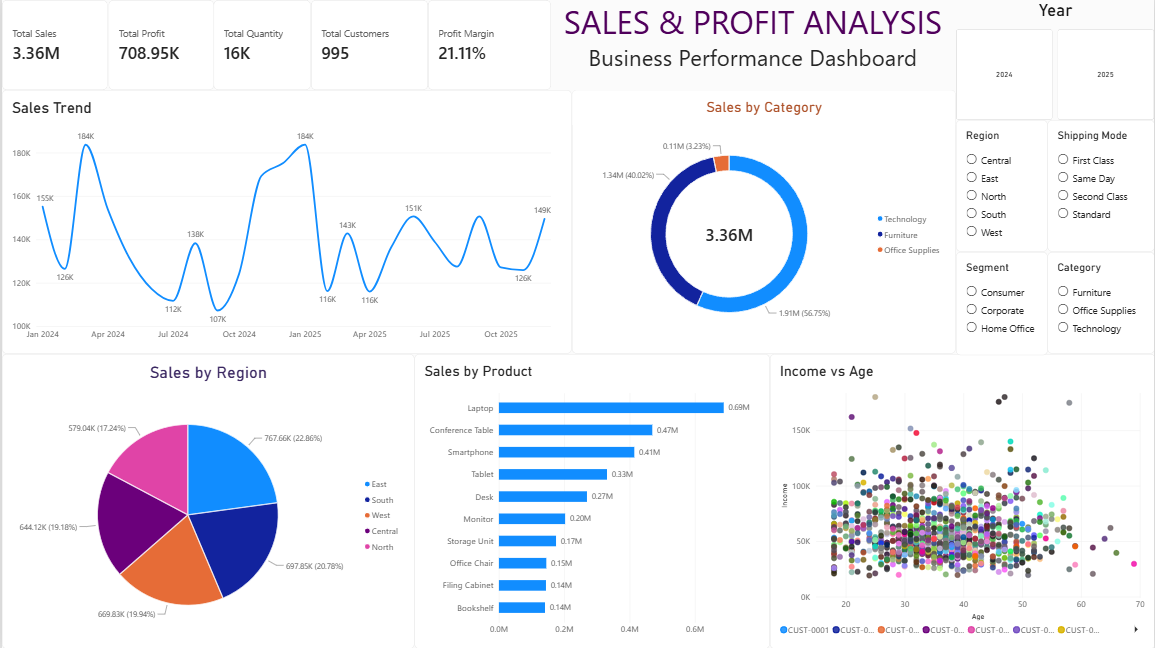

This screenshot's page, from the dashboard's own definition file:
{"tool":"powerbi","page":{"name":"Page 1","canvas":[1920,1080],"ordinal":0},"visuals":[{"type":"cardVisual","fields":{"Data":["Sales.Total Sales"]},"box":[0,0,176.6,150.3],"z":0},{"type":"cardVisual","fields":{"Data":["Sales.Total Profit"]},"box":[176.6,0,176.6,150.3],"z":1},{"type":"cardVisual","fields":{"Data":["Sales.Total Quantity"]},"box":[353.1,0,162.2,150.3],"z":2},{"type":"cardVisual","fields":{"Data":["Sales.Total Customers"]},"box":[515.4,0,195.6,150.3],"z":3},{"type":"cardVisual","fields":{"Data":["Sales.Profit Margin"]},"box":[711,0,205.2,150.3],"z":4},{"type":"lineChart","title":"Sales Trend","fields":{"Category":["Date.Year-Month"],"Y":["Sales.Total Sales"]},"box":[0,150.3,949.6,439],"z":5},{"type":"donutChart","title":"Sales by Category","fields":{"Category":["Sales.Category"],"Y":["Sales.Total Sales"]},"box":[949.6,150.3,639.4,439],"z":6},{"type":"pieChart","title":"Sales by Region","fields":{"Category":["Sales.Region"],"Y":["Sales.Total Sales"]},"box":[0,589.3,687.1,491.5],"z":7},{"type":"barChart","title":"Sales by Product","fields":{"Category":["Sales.Product"],"Y":["Sales.Total Sales"]},"box":[687.1,589.3,591.7,491.5],"z":8},{"type":"scatterChart","title":"Income vs Age","fields":{"Series":["Sales.Customer ID"],"X":["Customers.Age"],"Y":["Customers.Income"]},"box":[1278.9,589.3,641.8,491.5],"z":9},{"type":"advancedSlicerVisual","fields":{"Values":["Date.Year"]},"box":[1589,0,331.6,200.4],"z":10},{"type":"listSlicer","fields":{"Values":["Sales.Region"]},"box":[1589,200.4,152.7,219.5],"z":11},{"type":"listSlicer","fields":{"Values":["Sales.Category"]},"box":[1741.7,419.9,178.9,169.4],"z":12},{"type":"listSlicer","fields":{"Values":["Sales.Segment"]},"box":[1589,419.9,152.7,171.8],"z":13},{"type":"listSlicer","fields":{"Values":["Sales.Shipping Mode"]},"box":[1741.7,200.4,178.9,219.5],"z":14},{"type":"textbox","box":[100,100,300,300],"z":16},{"type":"textbox","box":[916.2,0,672.8,150.3],"z":17}]}

Visuals, with their boxes in screenshot pixels (x1, y1, x2, y2), scaled from the page's 1920x1080 canvas onto the 1155x648 screenshot:
cardVisual - Sales.Total Sales: 0 0 106 90
cardVisual - Sales.Total Profit: 106 0 212 90
cardVisual - Sales.Total Quantity: 212 0 310 90
cardVisual - Sales.Total Customers: 310 0 428 90
cardVisual - Sales.Profit Margin: 428 0 551 90
"Sales Trend" lineChart: 0 90 571 354
"Sales by Category" donutChart: 571 90 956 354
"Sales by Region" pieChart: 0 354 413 647
"Sales by Product" barChart: 413 354 769 647
"Income vs Age" scatterChart: 769 354 1154 647
advancedSlicerVisual - Date.Year: 956 0 1154 120
listSlicer - Sales.Region: 956 120 1048 252
listSlicer - Sales.Category: 1048 252 1154 354
listSlicer - Sales.Segment: 956 252 1048 355
listSlicer - Sales.Shipping Mode: 1048 120 1154 252
textbox: 60 60 241 240
textbox: 551 0 956 90
